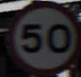Speed limit: (12, 5, 75, 65)
